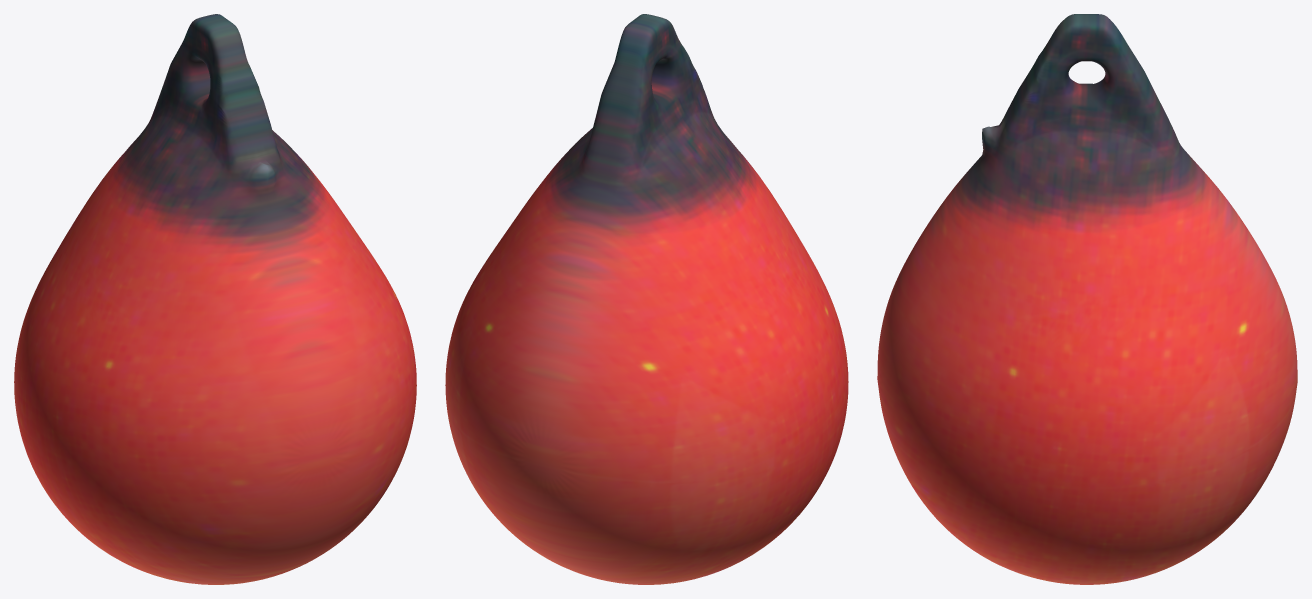
The model's file is buoy.dae.
3 views of the same model, side by side, from view 1: azimuth 30°, elevation 25°; view 2: azimuth 150°, elevation 25°; view 3: azimuth 270°, elevation 25° (orthographic).
Visible parts, largest first — view 1: Sphere; view 2: Sphere; view 3: Sphere.
Part boxes in pixels (left/top/right/bottom): Sphere: left=14, top=14, right=416, bottom=584; Sphere: left=445, top=14, right=848, bottom=584; Sphere: left=877, top=14, right=1297, bottom=584.
Size of the model in its own units: 0.1875 by 0.195 by 0.2806.
Materials: 1 (1 with a texture image).
